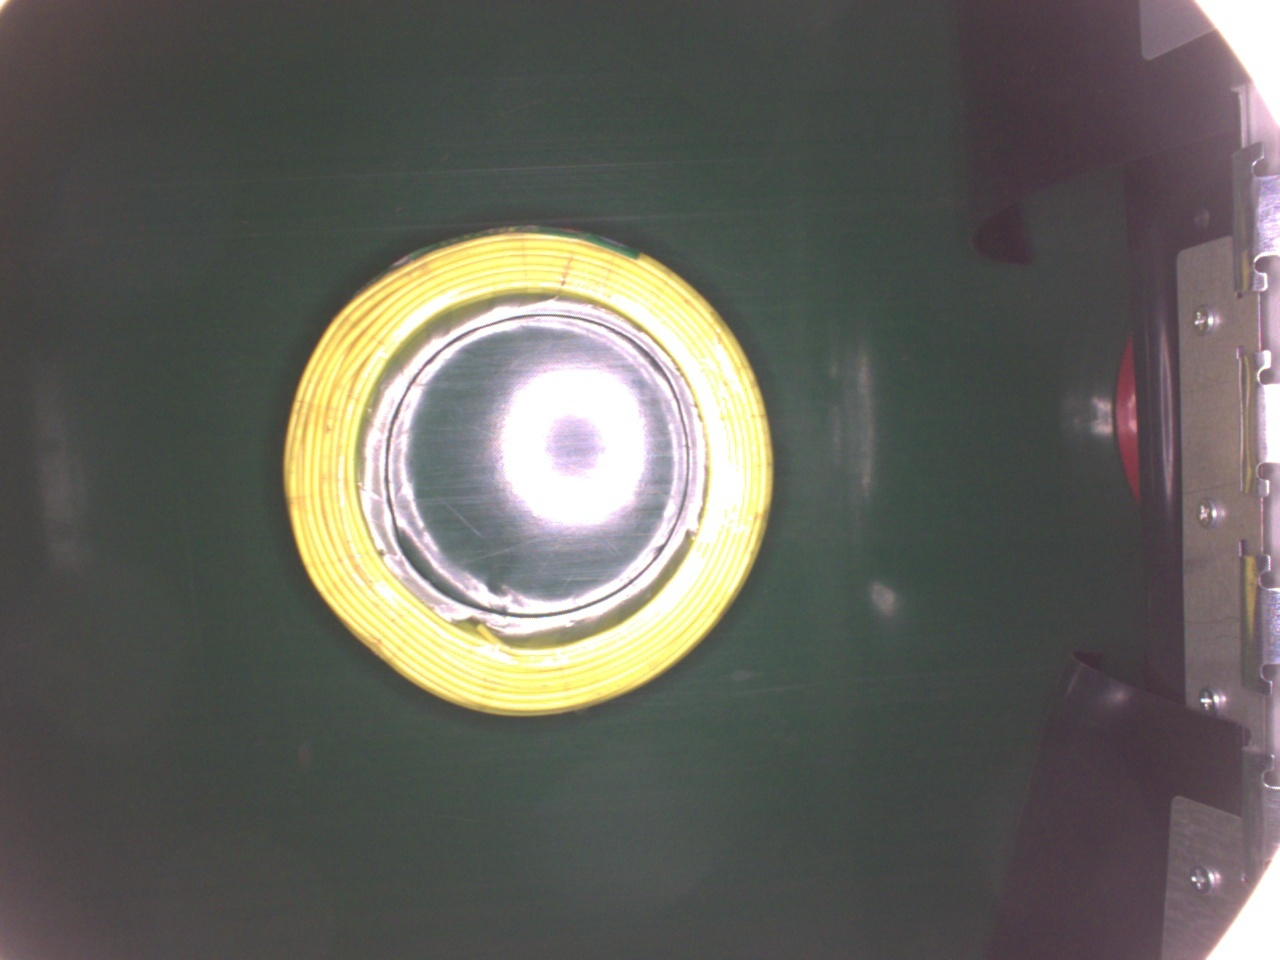yellow: (280, 220, 776, 716)
